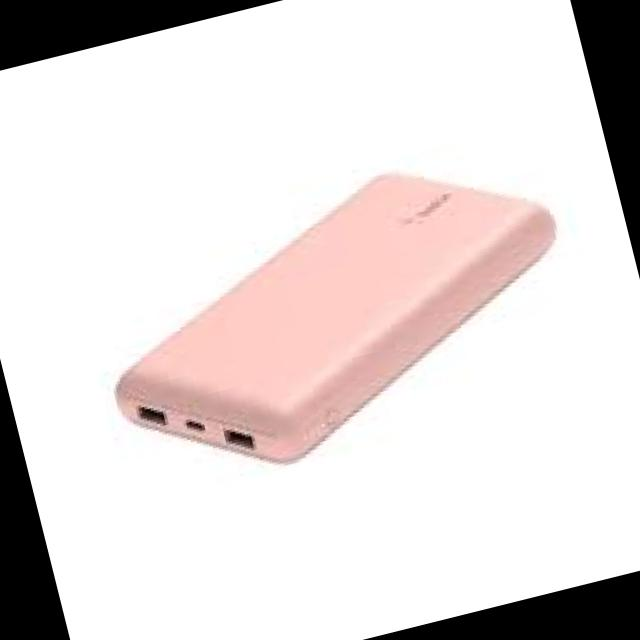portable-charger: (71, 121, 600, 508)
